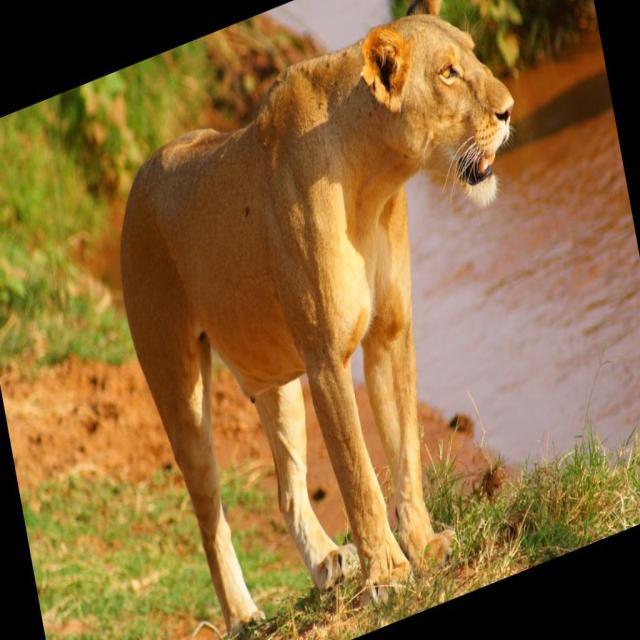Lion: (90, 0, 589, 639)
